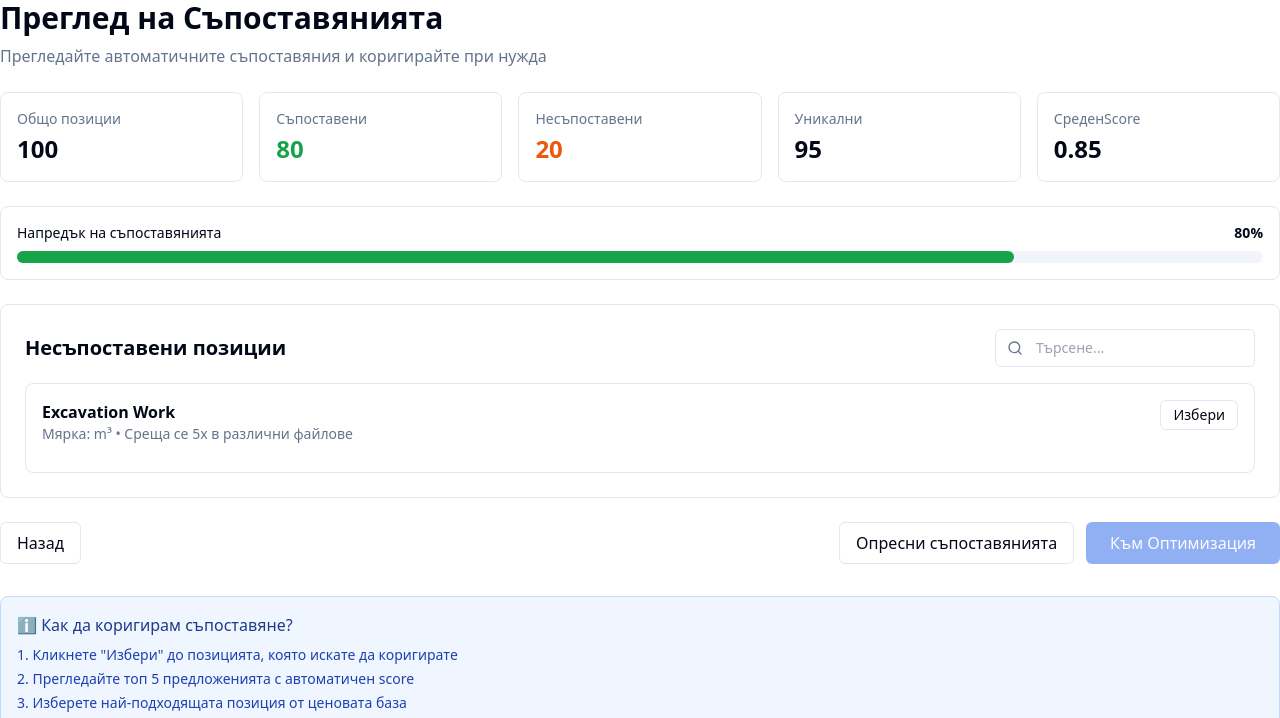
Test case: MatchPage › expands candidate to show top 5 suggestions when "Избери" is clicked
Check: the heading "Excavation Work" is shown, box [42, 401, 175, 423]
Check: the text "Изкопни работи тип А" is not shown
Click "Избери" to expand
Click the button "Избери". click: (1199, 415)
box: [1160, 400, 1238, 430]
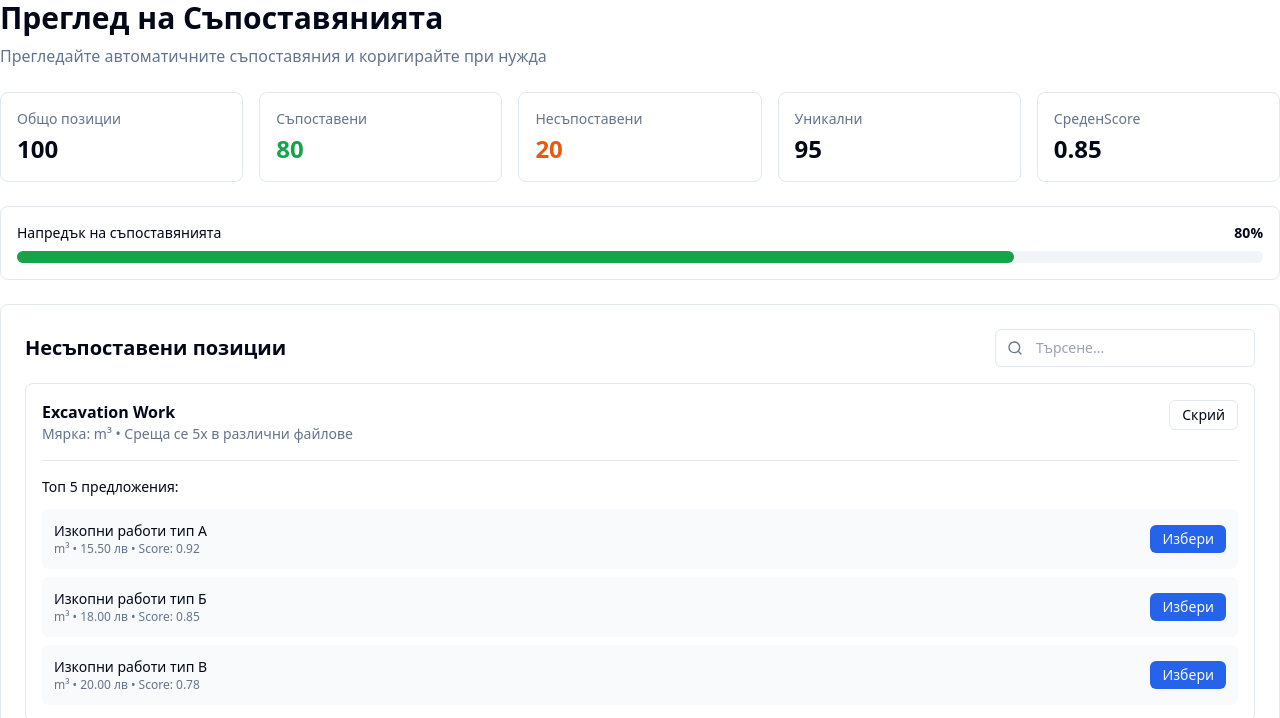
Check: the text "Топ 5 предложения:" is shown, box [42, 477, 179, 496]
Check: the text "Изкопни работи тип А" is shown, box [54, 521, 207, 540]
Check: the text "Изкопни работи тип Б" is shown, box [54, 589, 207, 608]
